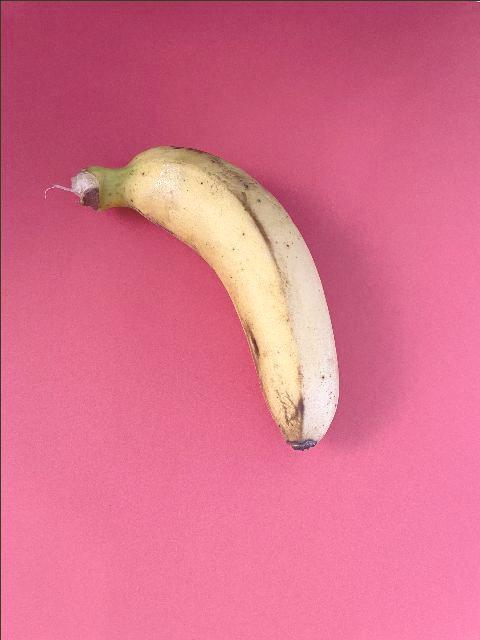banana: (68, 141, 340, 453)
